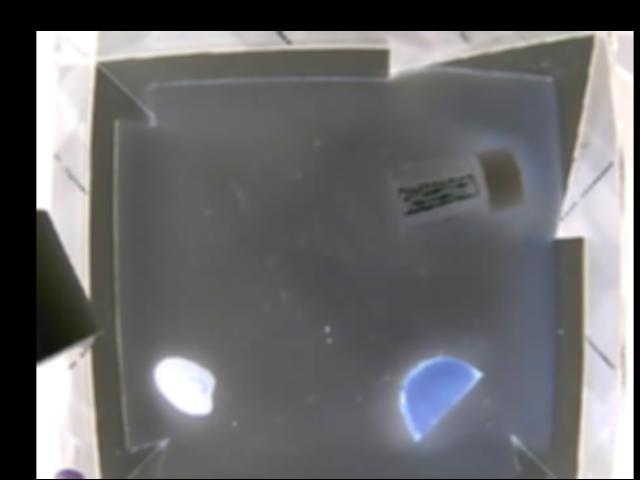Bottle: (389, 147, 524, 217)
Pebble: (152, 354, 220, 416)
Potato: (400, 357, 482, 436)
